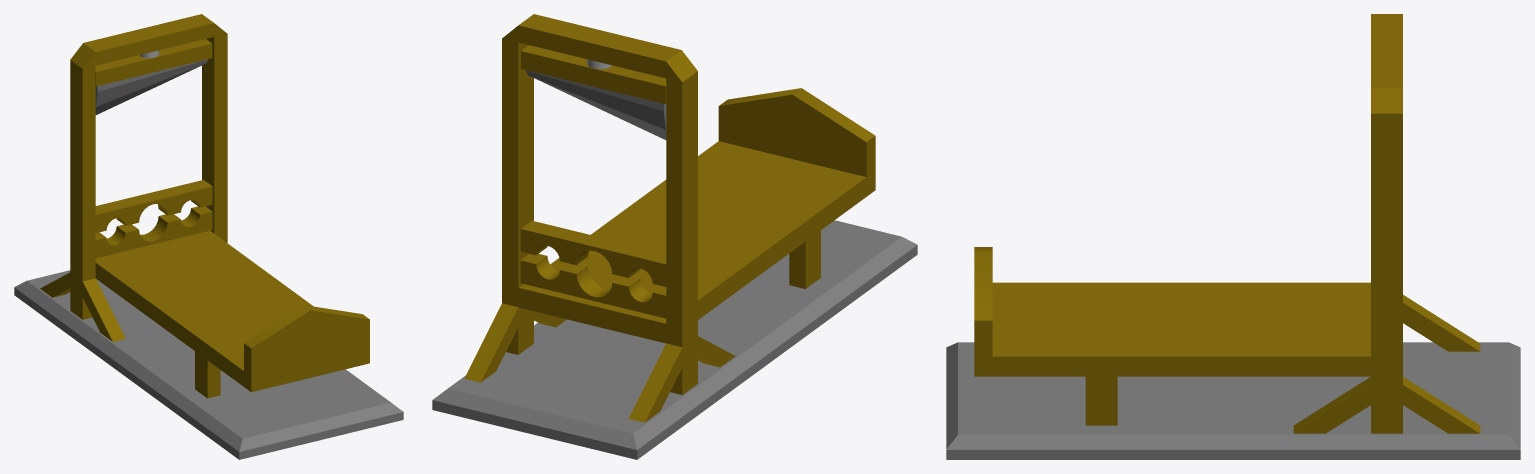
File: Guillotine.fbx
3 renders of one model, left to right at view 1: azimuth 30°, elevation 25°; view 2: azimuth 150°, elevation 25°; view 3: azimuth 270°, elevation 25°, orthographic. The views are drawn at different scales.
Visible parts, largest first — view 1: pCube19; view 2: pCube19; view 3: pCube19.
Boxes of the visible parts, bbox=[...] form: pCube19: bbox=[14, 14, 403, 459]; pCube19: bbox=[432, 14, 917, 459]; pCube19: bbox=[946, 14, 1520, 459].
Size of the model in its own units: 2.3 by 3.74 by 5.45.
